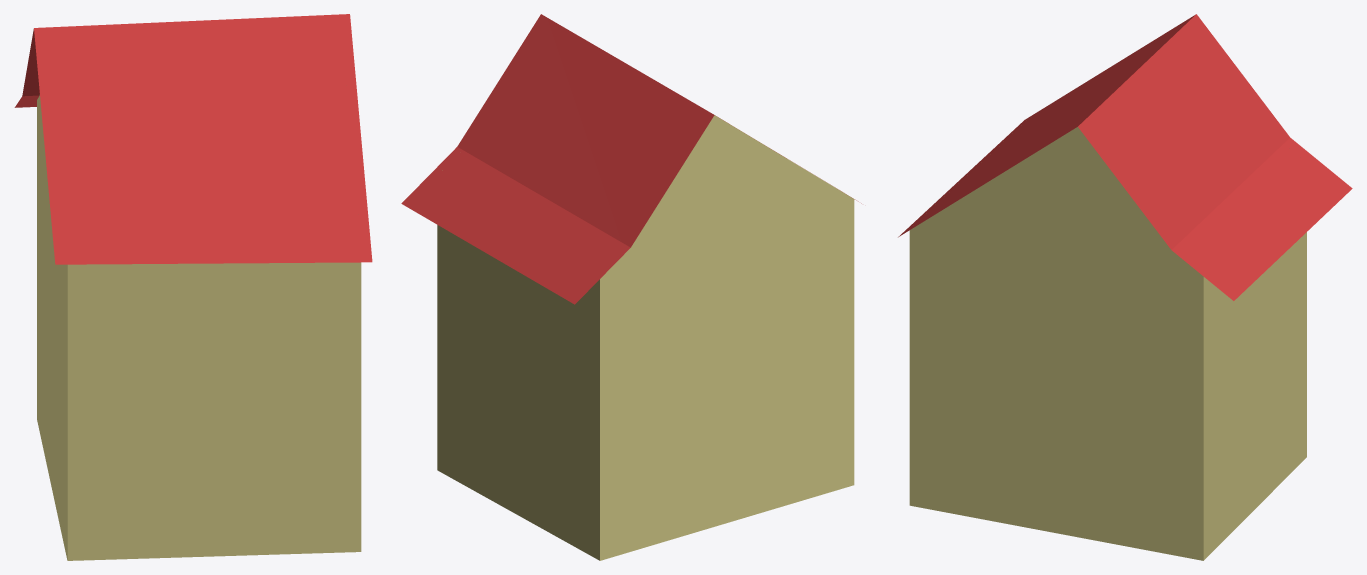
3 renders of one model, left to right at view 1: azimuth 30°, elevation 25°; view 2: azimuth 150°, elevation 25°; view 3: azimuth 270°, elevation 25°, orthographic. The views are drawn at different scales.
Bounding box in the file's own units: 11.21 × 12.37 × 12.43.
